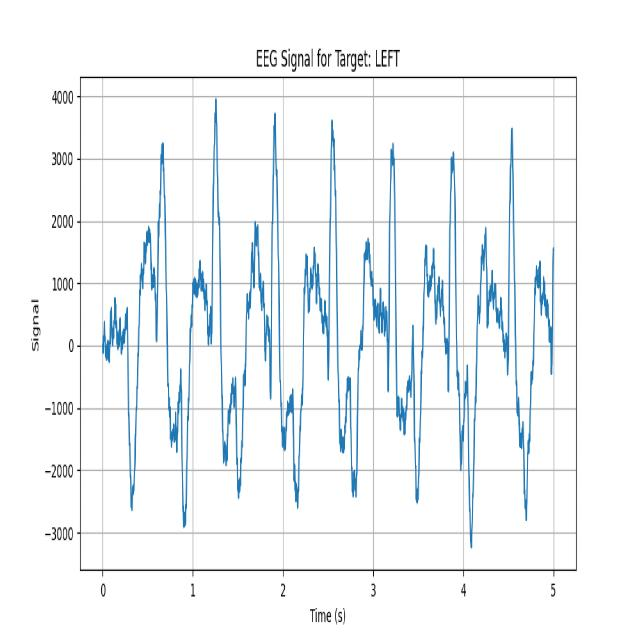LEFT: (120, 94, 186, 539), (472, 98, 538, 540), (354, 91, 418, 529), (239, 94, 298, 544), (298, 88, 354, 542), (418, 94, 472, 551), (186, 92, 240, 538)
